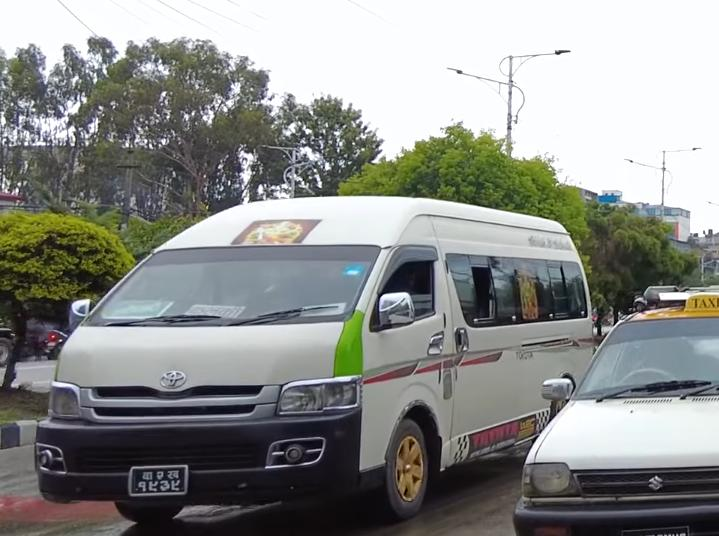micro_bus: (29, 188, 598, 536)
taxi: (518, 281, 719, 536)
